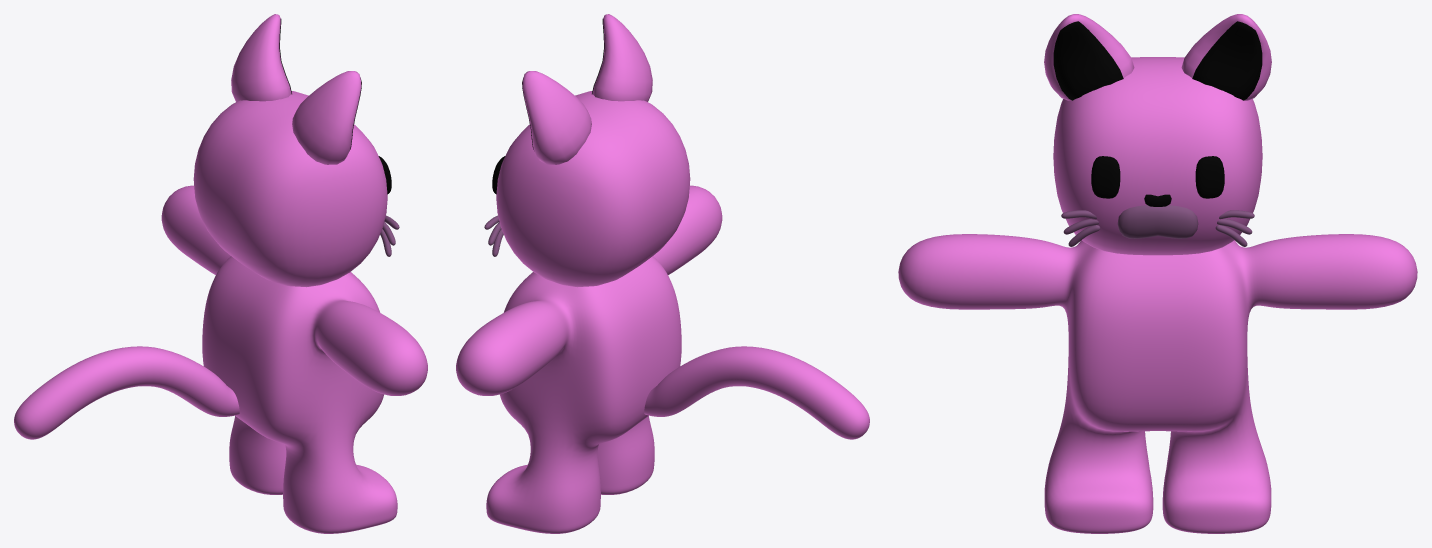
File: GatoRosa.glb
3 renders of one model, left to right at view 1: azimuth 30°, elevation 25°; view 2: azimuth 150°, elevation 25°; view 3: azimuth 270°, elevation 25°, orthographic. The views are drawn at different scales.
Visible parts, largest first — view 1: cuerpo, cabeza, Cube, orejas; view 2: cuerpo, cabeza, Cube, orejas; view 3: cuerpo, cabeza, orejas.001, orejas, boca, ojos.
Boxes of the visible parts, x1,y1,x2,y2 form: cuerpo: (161, 185, 427, 533); cabeza: (193, 91, 387, 287); Cube: (14, 346, 239, 439); orejas: (231, 14, 361, 164); cuerpo: (456, 185, 722, 533); cabeza: (496, 91, 690, 287); Cube: (644, 346, 869, 439); orejas: (522, 14, 652, 164); cuerpo: (898, 234, 1417, 533); cabeza: (1053, 57, 1262, 255); orejas.001: (1053, 21, 1262, 100); orejas: (1044, 14, 1271, 100); boca: (1117, 205, 1198, 238); ojos: (1091, 156, 1224, 198).
Bounding box in the file's own units: 3.12 × 3.84 × 3.61.
